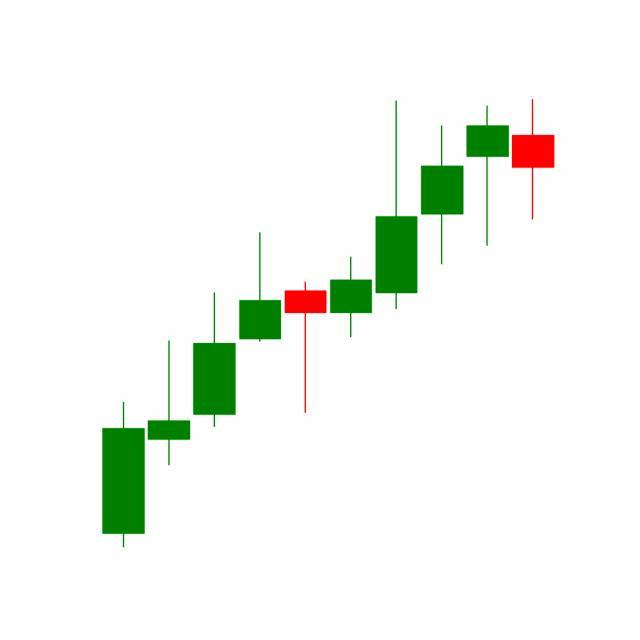Hikkake Pattern: (283, 100, 512, 418)
